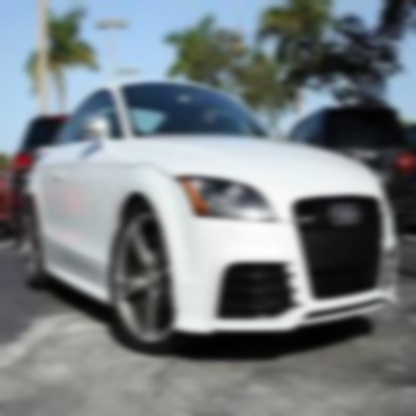Vehicle: (20, 80, 399, 354)
